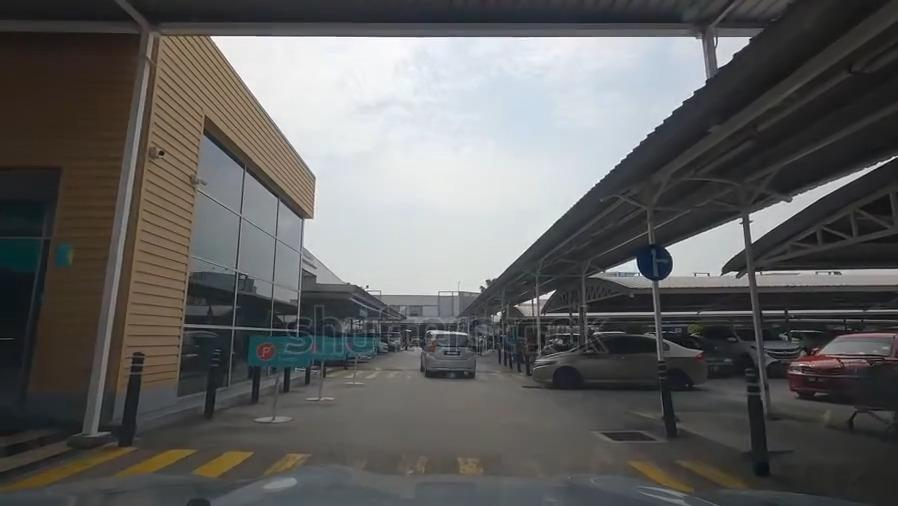car: (536, 338, 704, 387), (787, 338, 898, 401), (713, 326, 803, 370), (421, 329, 476, 379), (670, 334, 729, 377)
manhole: (595, 426, 664, 451)
pedestrian: (2, 458, 753, 497), (327, 374, 536, 384)
speedbump: (351, 364, 510, 375)
